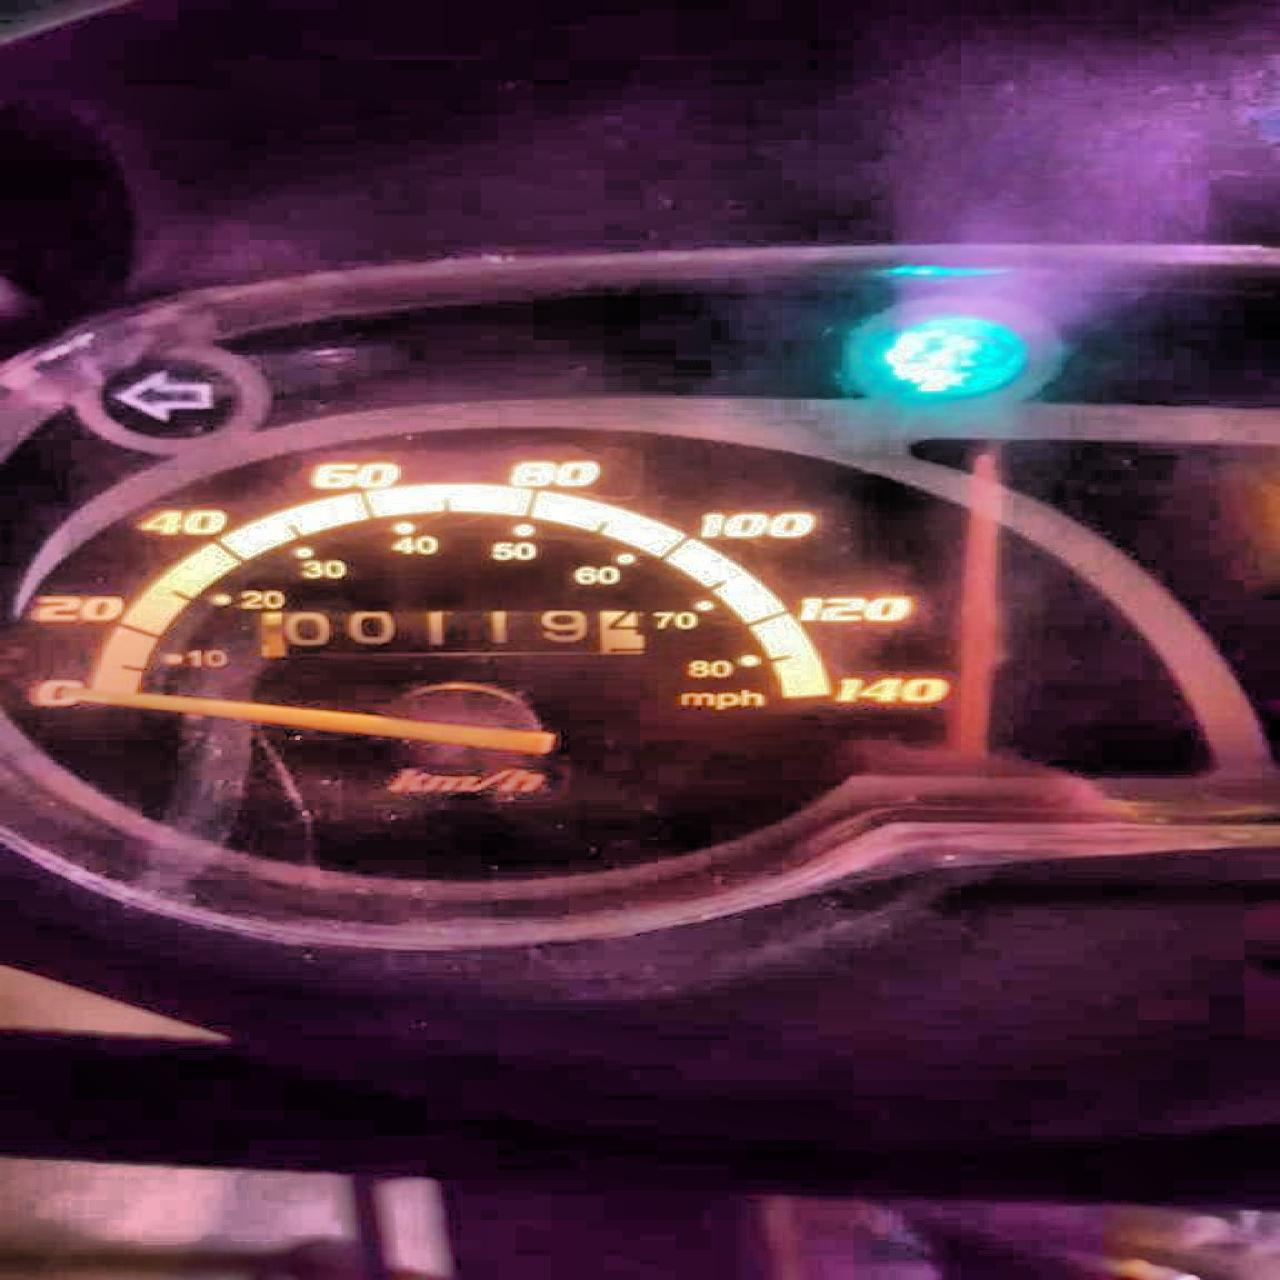0: (345, 610, 394, 644), (280, 611, 329, 645)
1: (422, 610, 442, 645), (489, 608, 508, 644)
4: (605, 606, 645, 635)
9: (538, 608, 586, 642)
odometer: (253, 606, 647, 659)
